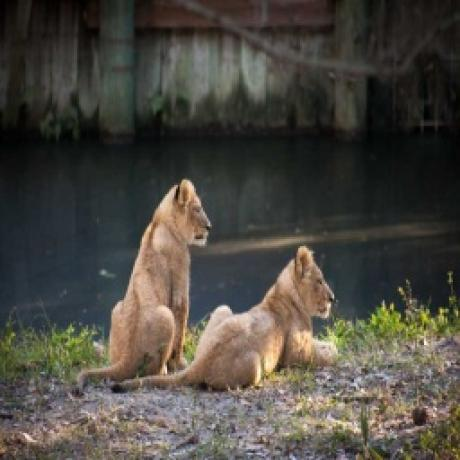Lion: (109, 245, 339, 394), (77, 174, 213, 393)
